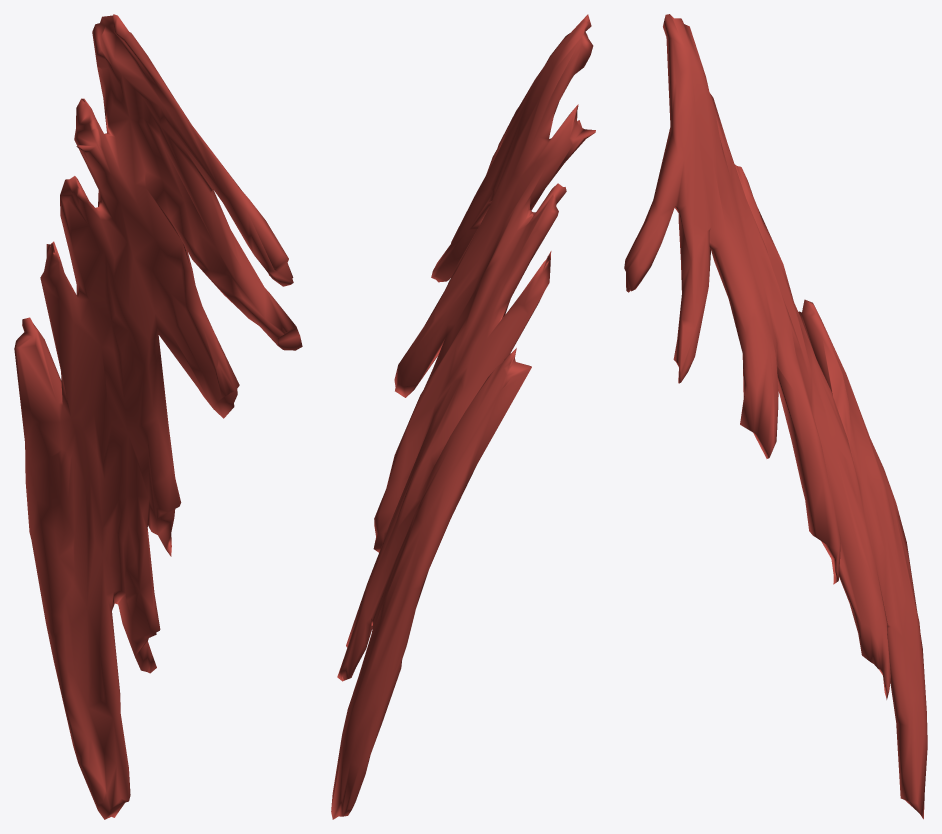
File: musculos-semispinalis-colli-muscle-l.glb
3 views of the same model, side by side, from view 1: azimuth 30°, elevation 25°; view 2: azimuth 150°, elevation 25°; view 3: azimuth 270°, elevation 25° (orthographic). The views are drawn at different scales.
Parts seen in each view (by area): view 1: Semispinalis colli muscle.l; view 2: Semispinalis colli muscle.l; view 3: Semispinalis colli muscle.l.
Part boxes in pixels (<box>): Semispinalis colli muscle.l: <box>14,14,302,819</box>; Semispinalis colli muscle.l: <box>331,14,595,819</box>; Semispinalis colli muscle.l: <box>624,14,927,819</box>.
Size of the model in its own units: 0.034 by 0.1425 by 0.0527.
